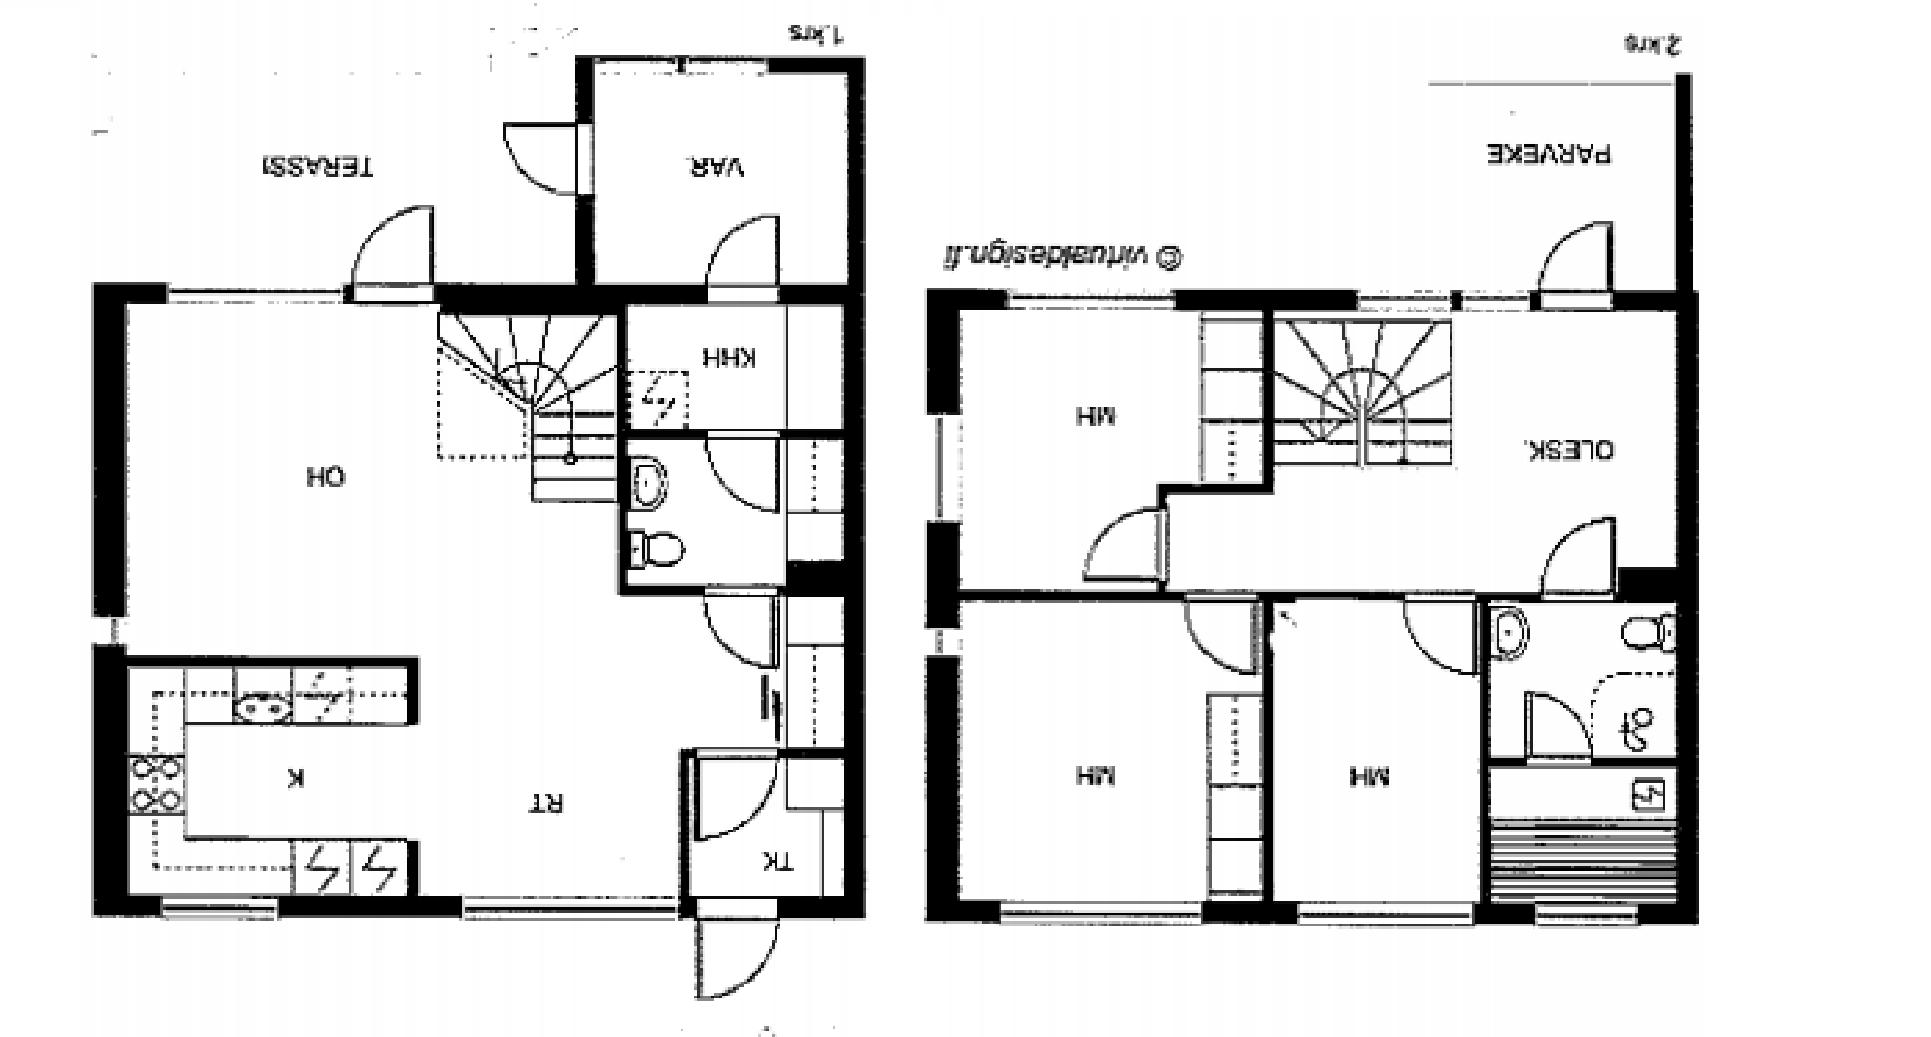door: (352, 192, 446, 310), (493, 115, 602, 201), (692, 745, 782, 848), (696, 895, 782, 1001), (1395, 586, 1481, 682), (1541, 209, 1619, 313), (1538, 513, 1623, 607), (1074, 502, 1170, 584), (700, 581, 782, 670), (1181, 589, 1264, 673), (700, 432, 782, 515), (1520, 687, 1593, 765)
window: (1000, 897, 1202, 927), (458, 895, 674, 920), (1298, 900, 1469, 927), (925, 414, 963, 524), (1358, 287, 1520, 313), (1010, 284, 1172, 309), (163, 278, 341, 301), (155, 897, 277, 925), (1534, 902, 1633, 927), (92, 613, 125, 646), (923, 624, 959, 650)
zone: (126, 305, 845, 898), (1160, 305, 1668, 587), (960, 596, 1261, 898), (959, 310, 1266, 593), (1275, 602, 1479, 907), (595, 65, 843, 281), (1427, 83, 1672, 289), (622, 441, 842, 586), (1488, 591, 1674, 757), (623, 301, 838, 430), (1487, 769, 1679, 905), (687, 752, 845, 897)
